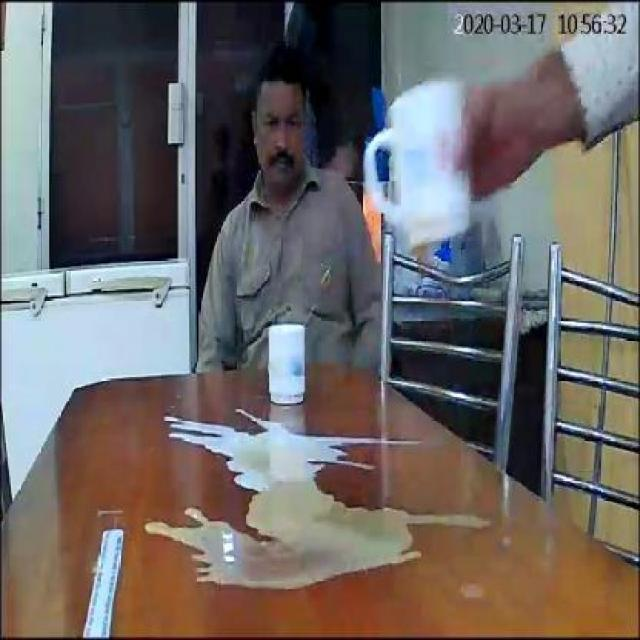spill: (142, 493, 493, 592)
